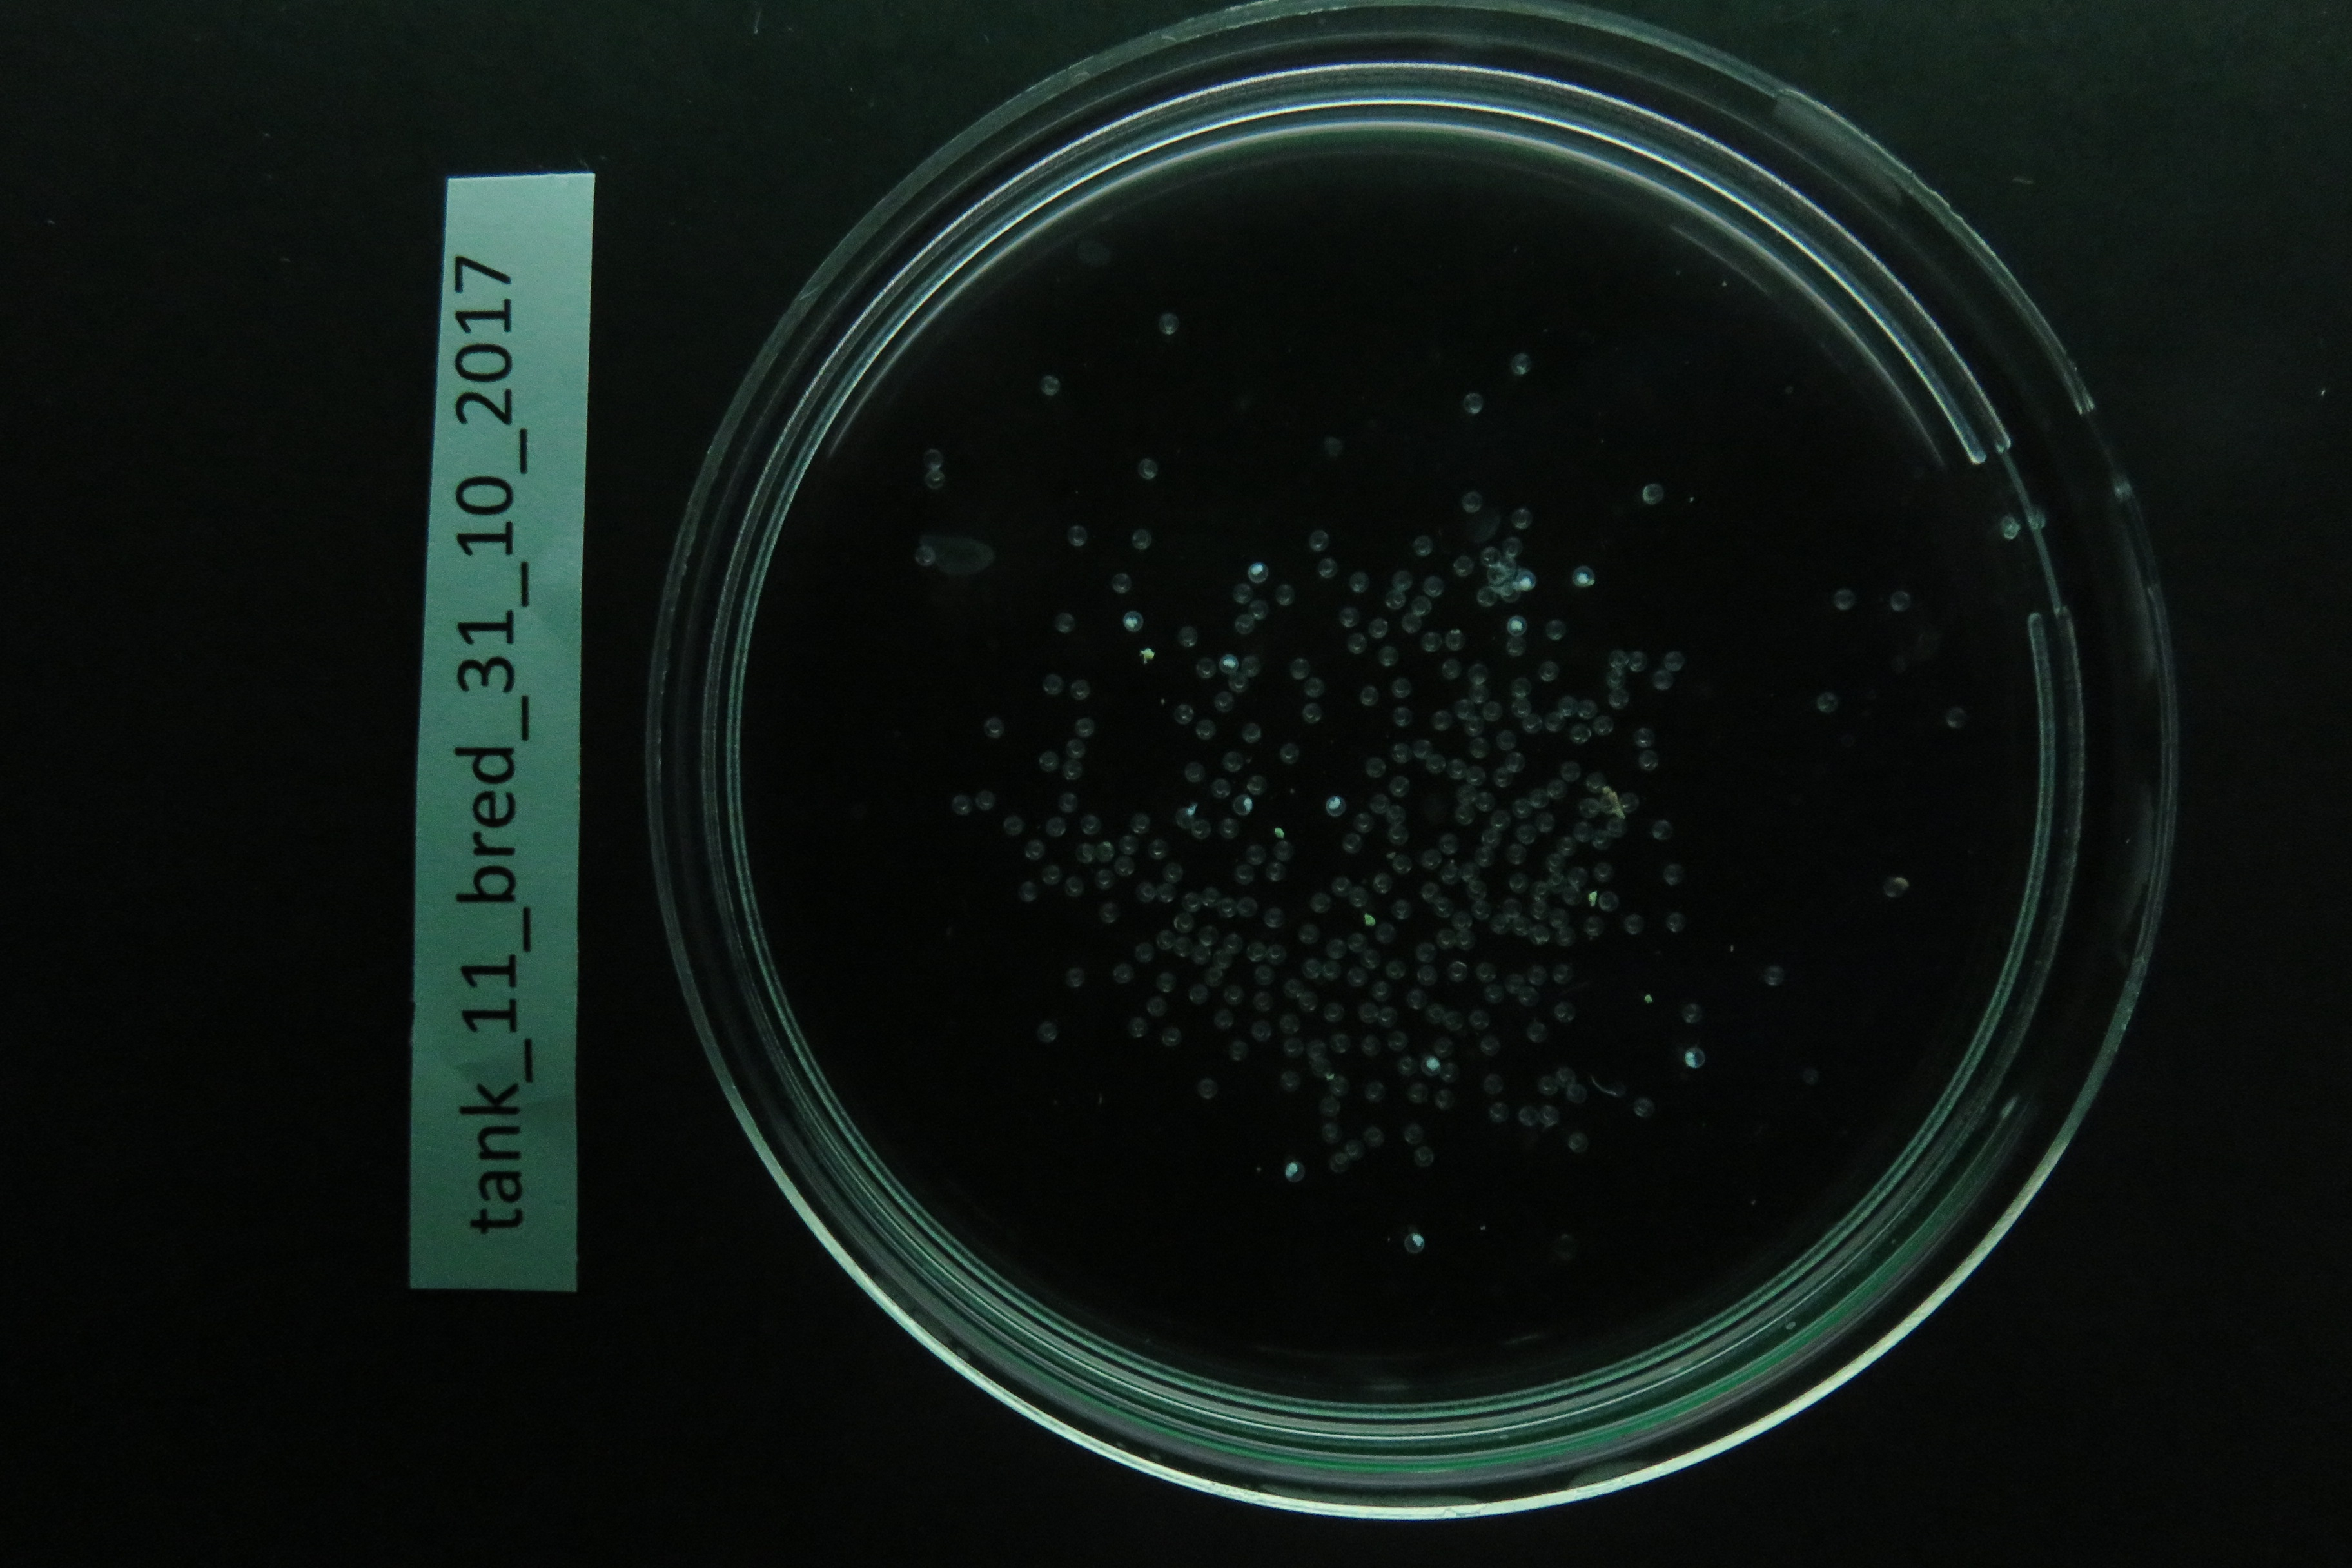bad_egg: (1404, 1232, 1428, 1256), (1155, 313, 1179, 336), (1640, 485, 1664, 508), (1323, 796, 1346, 819), (1685, 1045, 1704, 1071), (1040, 374, 1060, 395), (1138, 455, 1157, 478), (1232, 796, 1253, 815), (1281, 1160, 1302, 1179), (1463, 394, 1482, 415), (1123, 611, 1141, 634), (1421, 1057, 1440, 1076), (1519, 570, 1535, 593), (1573, 569, 1591, 588), (1507, 616, 1524, 635), (1249, 563, 1263, 583)
good_egg: (982, 710, 1006, 740), (1181, 761, 1206, 786), (1066, 525, 1089, 548), (1064, 968, 1087, 991), (1437, 831, 1459, 854), (950, 791, 971, 815), (1130, 532, 1153, 553), (1178, 626, 1199, 649), (1036, 747, 1057, 770), (1017, 880, 1038, 903), (1390, 777, 1410, 800), (1494, 730, 1516, 752), (1041, 674, 1060, 698), (1111, 572, 1130, 595), (1447, 759, 1467, 782), (1074, 717, 1094, 739), (1004, 814, 1024, 835), (1431, 710, 1453, 730), (1236, 612, 1253, 635), (1055, 614, 1073, 635), (1071, 679, 1089, 700), (1244, 723, 1260, 746), (1174, 703, 1192, 723), (1836, 588, 1851, 607)
